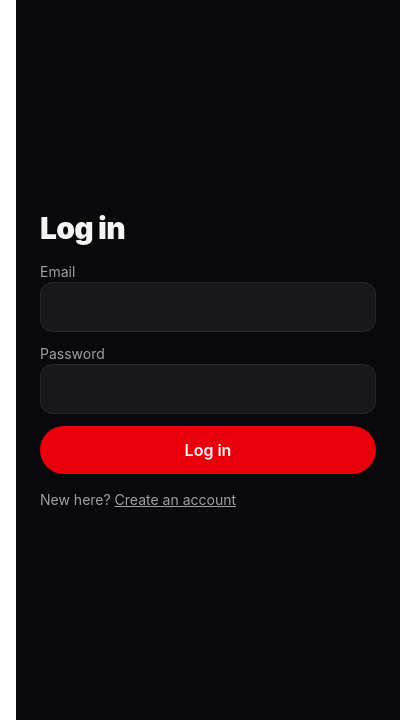
Test: auth › shows the login error from Supabase
This screenshot has width=417, height=720.
Expected: the heading "Log in" is shown, x1=40 y1=210 x2=125 y2=246
In the field labelled "Email": (208, 307) x1=40 y1=282 x2=376 y2=332, type "ana@example.com"
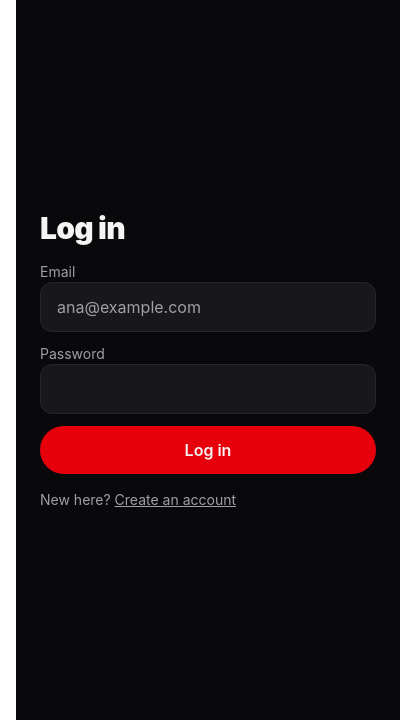
In the password field labelled "Password": (208, 389) x1=40 y1=364 x2=376 y2=414, type "wrong"
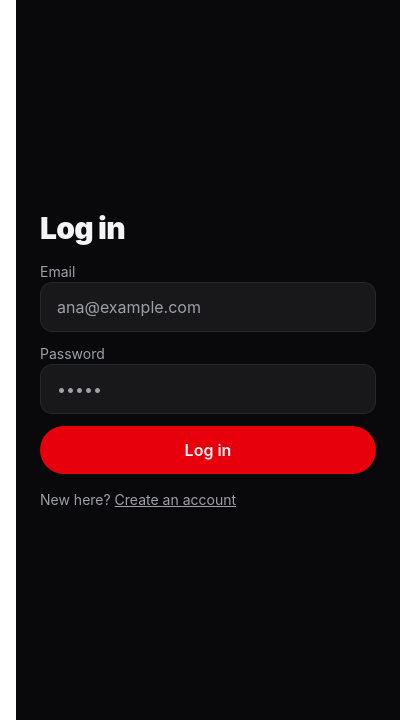
Click the button "Log in": (208, 450) x1=40 y1=426 x2=376 y2=474
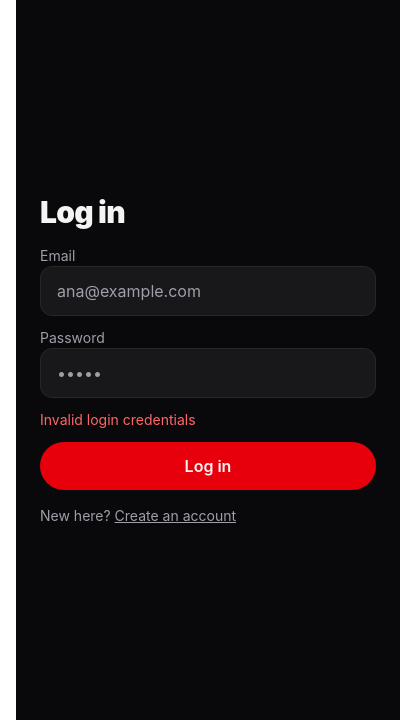
Now the message reads "Invalid login credentials", box x1=40 y1=411 x2=196 y2=428
